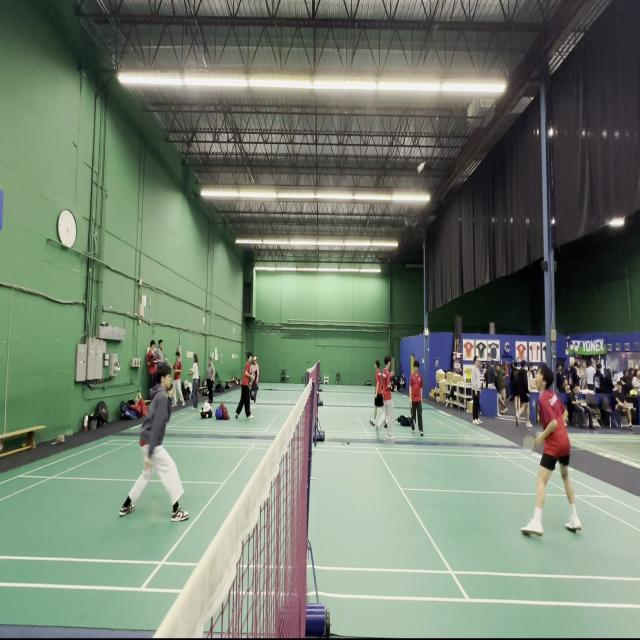shuttlecock: (417, 160, 426, 174)
